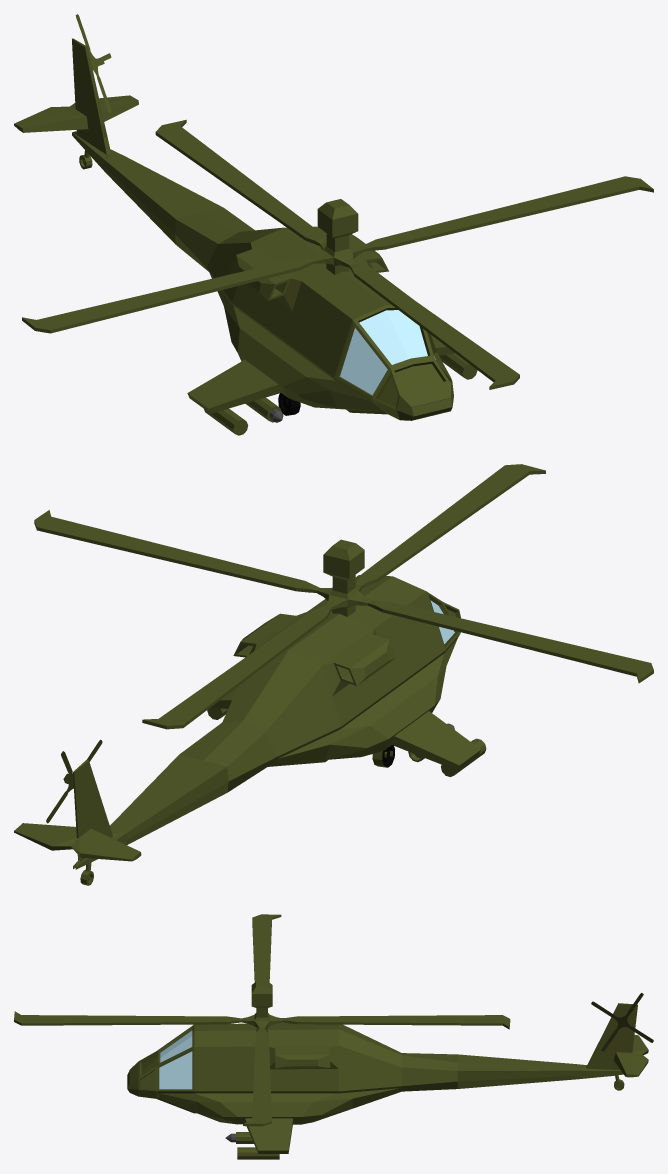
File: Helicopter Good (1).fbx
3 renders of one model, top to bottom at view 1: azimuth 30°, elevation 25°; view 2: azimuth 150°, elevation 25°; view 3: azimuth 270°, elevation 25°, orthographic. The views are drawn at different scales.
Visible parts, largest first — view 1: Cube, Cube.001; view 2: Cube, Cube.001; view 3: Cube, Cube.001.
Boxes of the visible parts, left/top/right/bottom form: Cube: left=14, top=38, right=477, bottom=435; Cube.001: left=22, top=14, right=653, bottom=389; Cube: left=14, top=575, right=486, bottom=885; Cube.001: left=34, top=464, right=653, bottom=823; Cube: left=127, top=1003, right=648, bottom=1159; Cube.001: left=14, top=914, right=653, bottom=1126.
Size of the model in its own units: 1832 by 586 by 2362.
